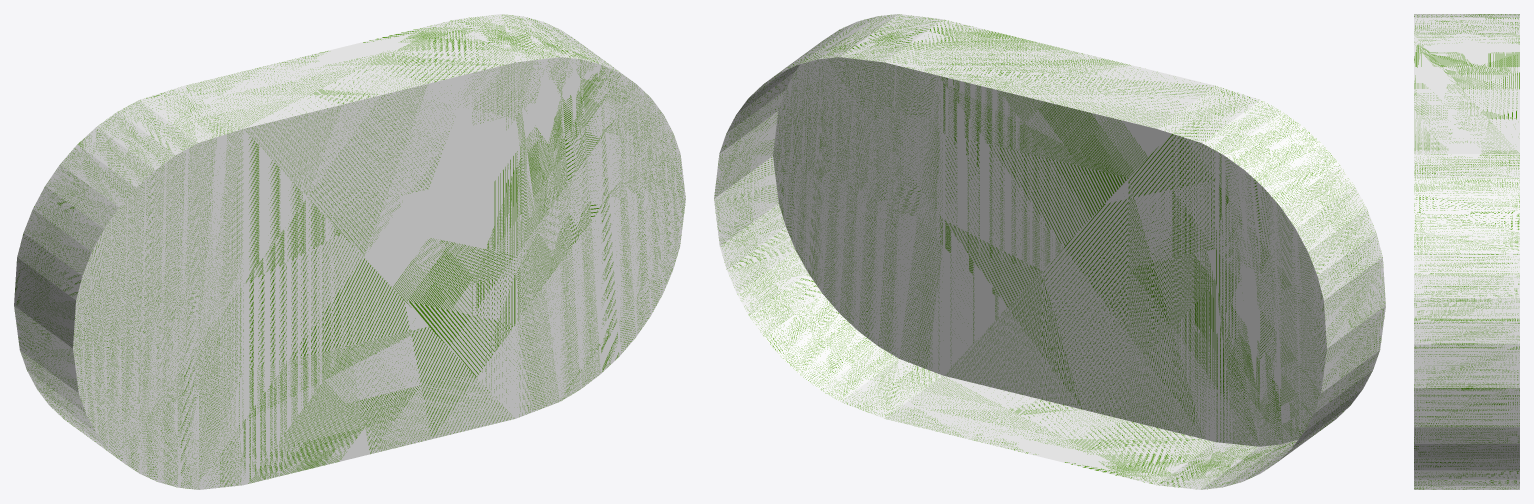
File: original-40.obj
3 renders of one model, left to right at view 1: azimuth 30°, elevation 25°; view 2: azimuth 150°, elevation 25°; view 3: azimuth 270°, elevation 25°, orthographic. The views are drawn at different scales.
Parts seen in each view (by area): view 1: mesh9/mesh9-geometry/material_0/component_27#mesh9-geometry; view 2: mesh9/mesh9-geometry/material_0/component_27#mesh9-geometry; view 3: mesh9/mesh9-geometry/material_0/component_27#mesh9-geometry.
Boxes of the visible parts, x1,y1,x2,y2 form: mesh9/mesh9-geometry/material_0/component_27#mesh9-geometry: (14, 14, 685, 489); mesh9/mesh9-geometry/material_0/component_27#mesh9-geometry: (714, 14, 1385, 489); mesh9/mesh9-geometry/material_0/component_27#mesh9-geometry: (1414, 14, 1519, 489).
Size of the model in its own units: 0.091 by 0.0506 by 0.0152.
